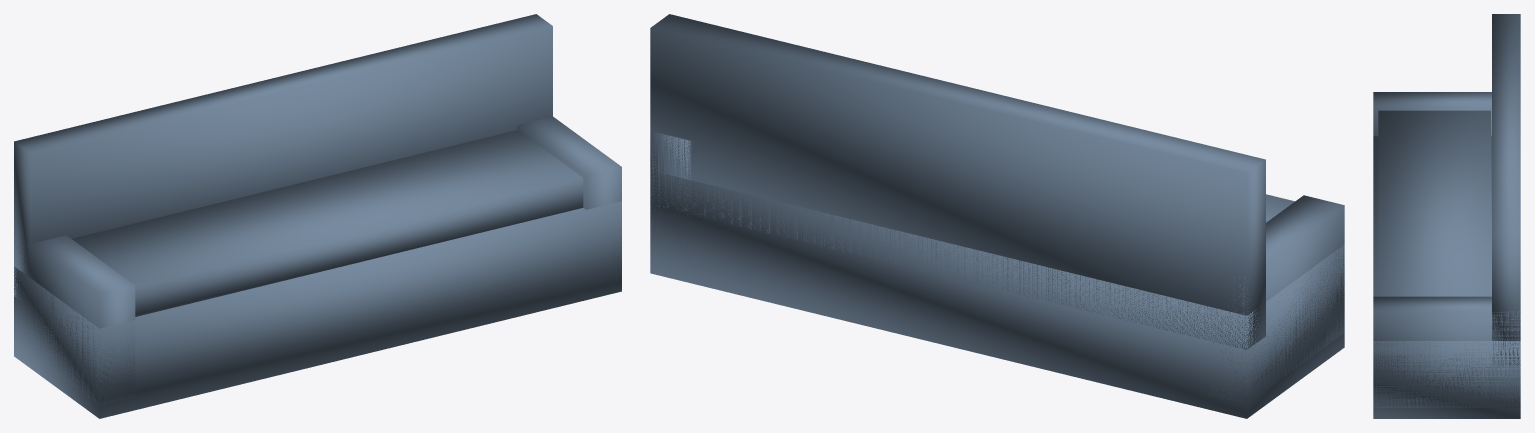
Rendered from sofa__wide.glb.
The picture shows the model from 3 angles, left to right: view 1: azimuth 30°, elevation 25°; view 2: azimuth 150°, elevation 25°; view 3: azimuth 270°, elevation 25°; orthographic projection. The views are drawn at different scales.
Parts seen in each view (by area): view 1: world; view 2: world; view 3: world.
Part boxes in pixels (left/top/right/bottom): world: left=14, top=14, right=621, bottom=418; world: left=650, top=14, right=1344, bottom=418; world: left=1373, top=14, right=1520, bottom=418.
Size of the model in its own units: 2.54 by 1.03 by 0.72.
